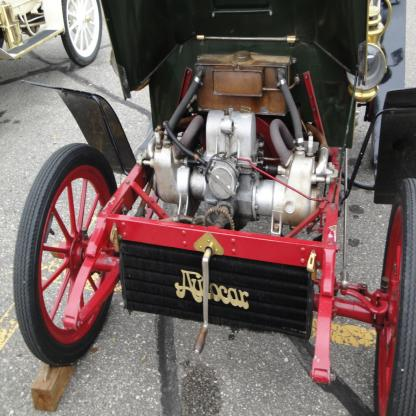Car: (14, 1, 416, 416), (1, 1, 102, 71)
